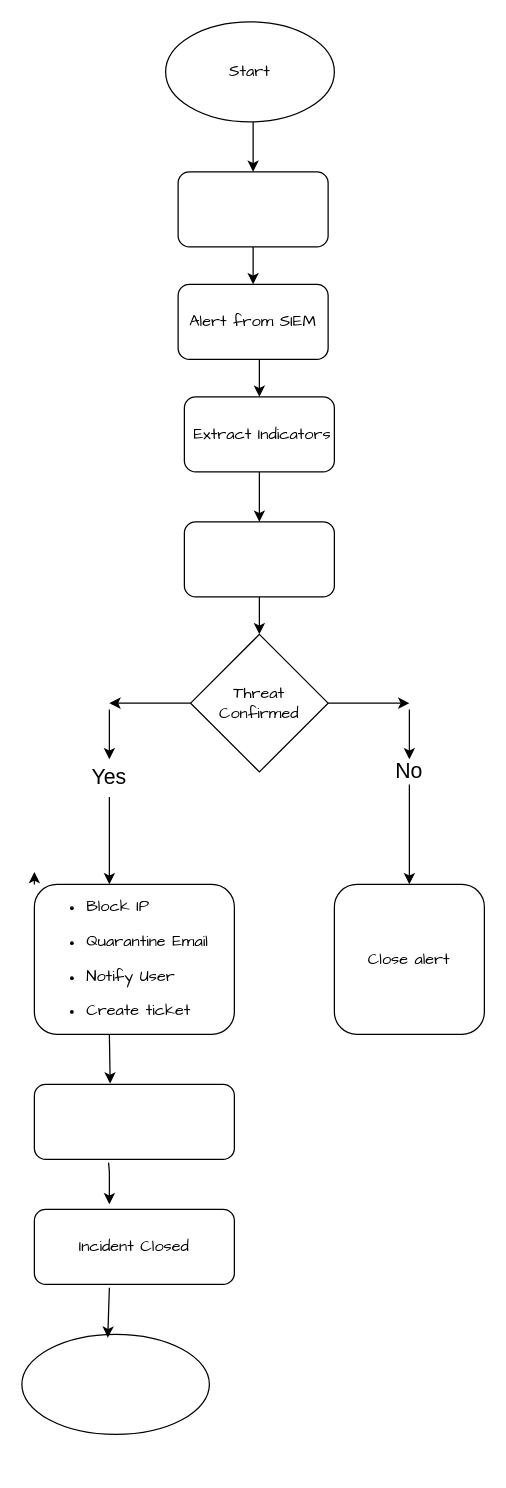
This 506x1488 diagram has some shape labels left out. Each missing label, with the box of its shape:
Analyst Review: (33, 1083, 234, 1159)
End: (21, 1333, 209, 1434)
Receive Security Alert: (177, 171, 328, 247)
Threat Intelligence Lookup: (183, 521, 334, 597)
